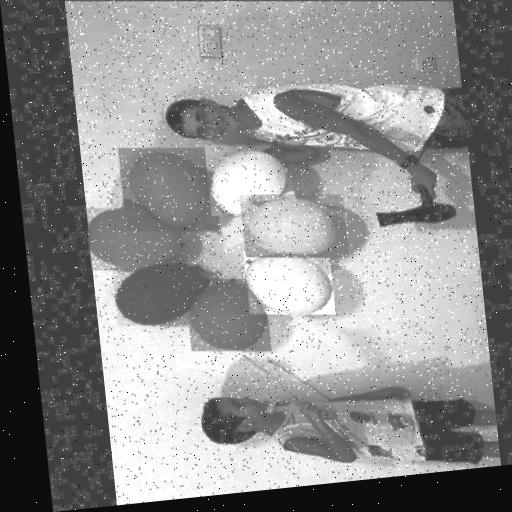balloon: (118, 136, 220, 236), (239, 178, 349, 260), (111, 249, 210, 330), (204, 131, 296, 218), (85, 196, 185, 275), (184, 267, 271, 353), (243, 238, 335, 316)
